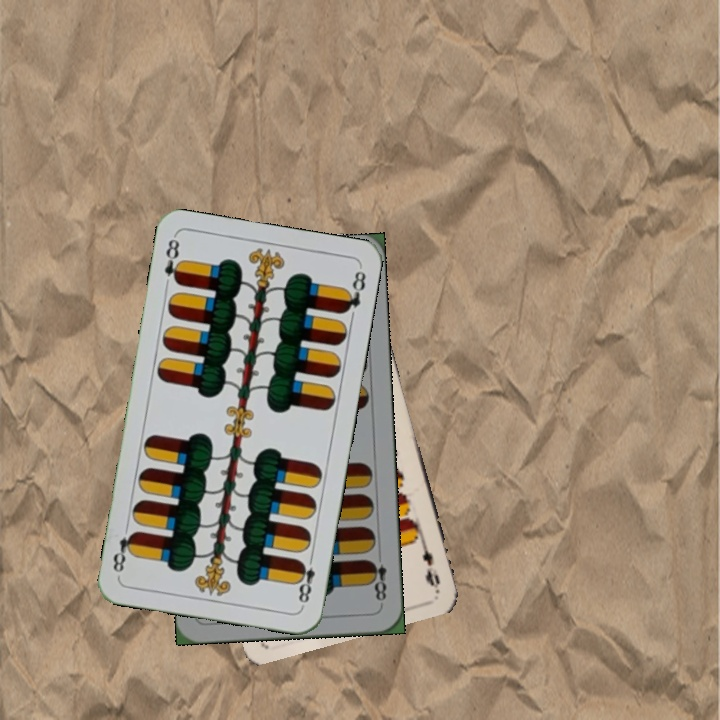E8: (292, 550, 318, 609), (365, 549, 389, 608), (160, 234, 185, 287)
E9: (411, 534, 443, 591)
